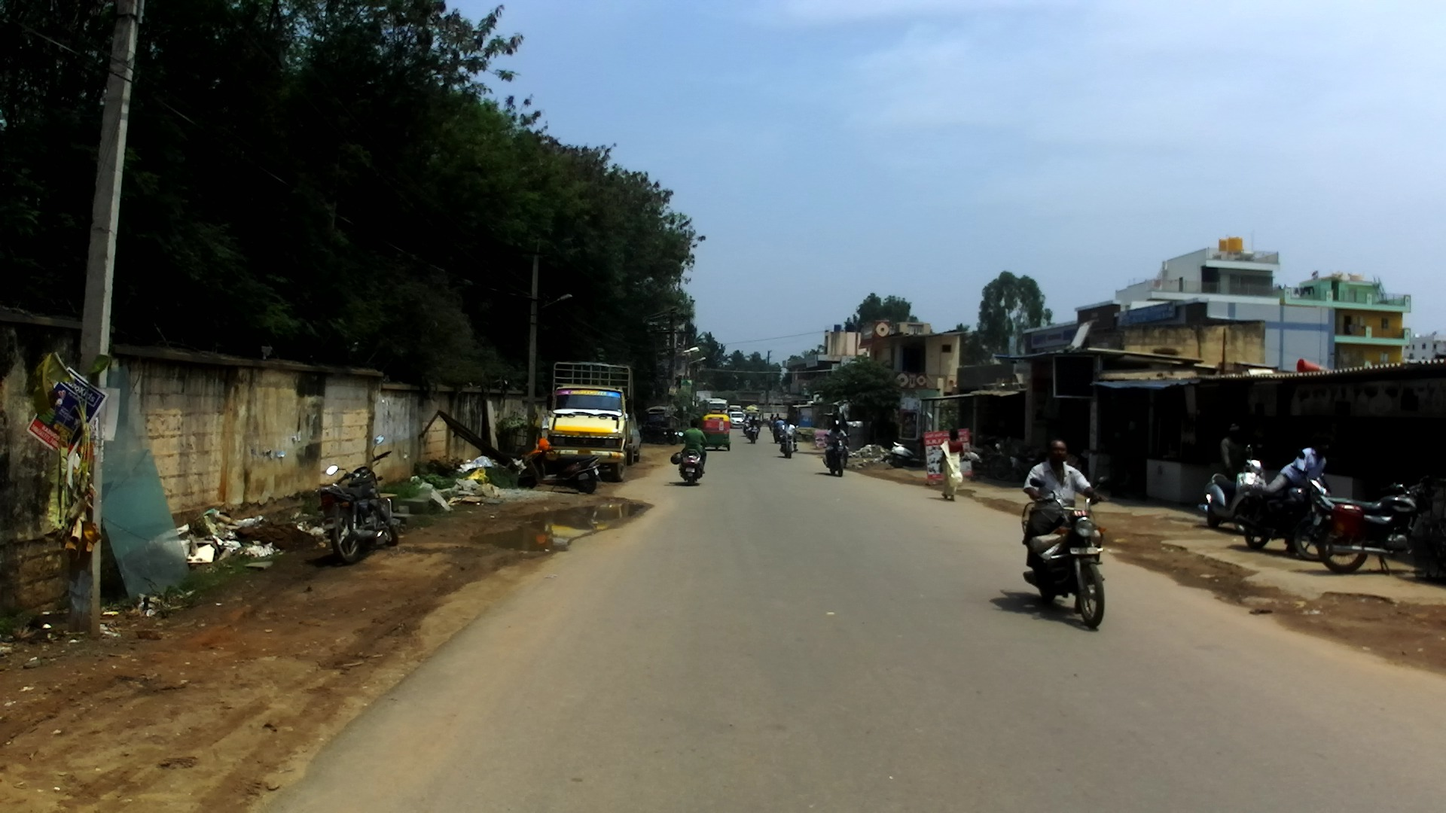autorickshaw: (701, 413, 731, 451), (745, 405, 763, 426)
bicycle: (981, 443, 1006, 480)
car: (626, 413, 642, 465), (728, 411, 747, 427)
motorcycle: (1309, 476, 1446, 578), (1021, 476, 1109, 628), (1234, 450, 1333, 562), (316, 434, 399, 565), (1197, 445, 1268, 535), (517, 437, 602, 494), (670, 431, 709, 486), (821, 431, 854, 478), (889, 435, 932, 468), (992, 449, 1033, 481), (779, 425, 801, 459), (639, 424, 670, 444), (659, 426, 679, 445), (744, 422, 760, 445), (772, 427, 784, 443), (741, 419, 751, 436)
person: (938, 428, 966, 501), (1218, 422, 1248, 483), (976, 427, 989, 446), (767, 412, 777, 432), (772, 413, 782, 423), (740, 408, 748, 414)
rider: (1023, 438, 1111, 597), (1237, 439, 1328, 552), (677, 419, 709, 473), (824, 419, 848, 467), (1006, 436, 1030, 480), (779, 418, 803, 452), (745, 414, 761, 438), (773, 416, 786, 433), (742, 412, 752, 425)
truck: (545, 361, 634, 483), (700, 398, 730, 416)
vehicle fallback: (728, 405, 742, 413)
